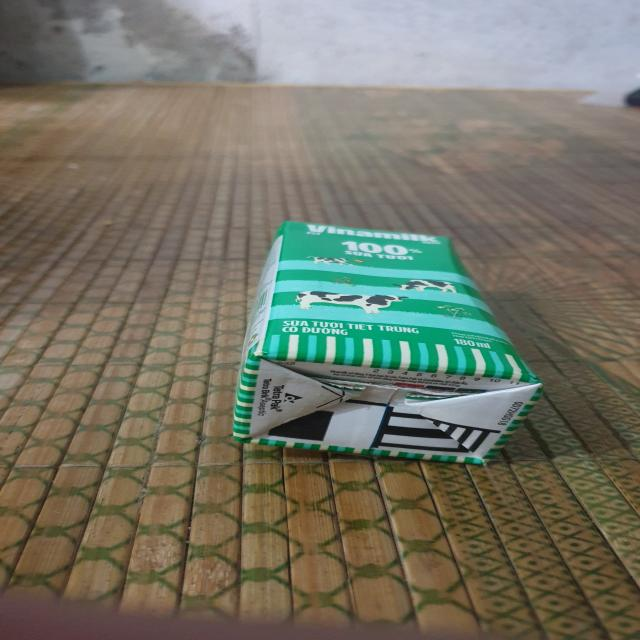Vina: (226, 220, 552, 471)
